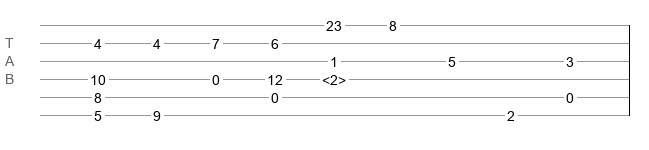0: (212, 72, 220, 82), (271, 90, 279, 100), (566, 90, 574, 100)
1: (330, 54, 338, 64)
10: (90, 72, 106, 82)
12: (267, 72, 283, 82)
2: (507, 108, 515, 118)
23: (326, 18, 342, 28)
3: (566, 54, 574, 64)
4: (94, 36, 102, 46), (153, 36, 161, 46)
5: (94, 108, 102, 118), (448, 54, 456, 64)
6: (271, 36, 279, 46)
7: (212, 36, 220, 46)
8: (94, 90, 102, 100), (389, 18, 397, 28)
9: (153, 108, 161, 118)
harmonic: (322, 72, 346, 82)
